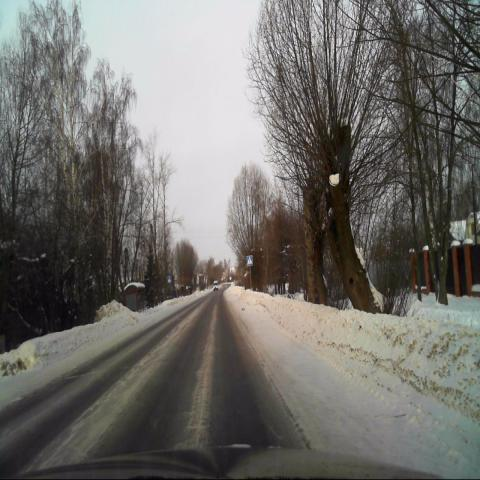5_19_1: (246, 255, 253, 266)
